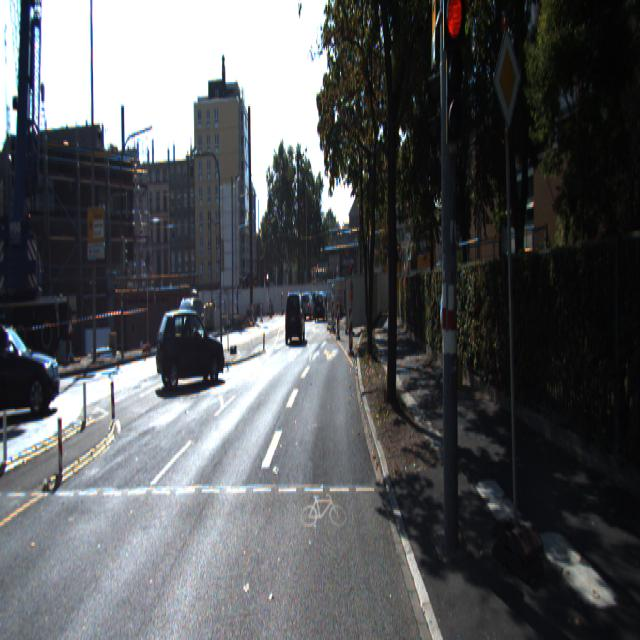Car: (0, 312, 66, 418), (154, 306, 227, 394), (170, 292, 205, 350), (284, 285, 305, 341), (286, 292, 300, 328)
